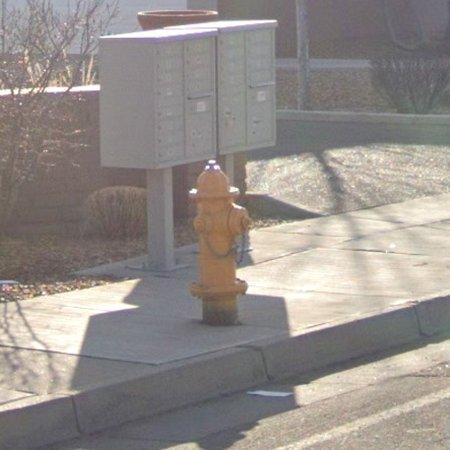a fire hydrant: (192, 160, 251, 325)
